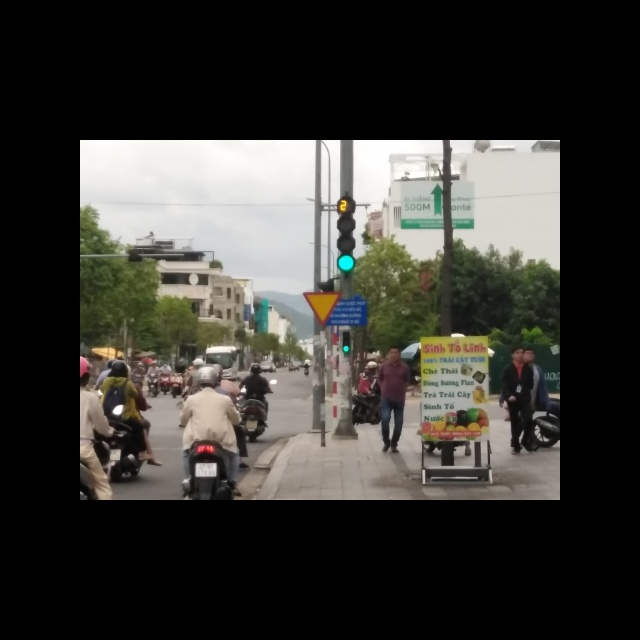Giao nhau với đường ưu tiên: (301, 292, 341, 327)
Đèn xanh: (336, 254, 356, 271)
